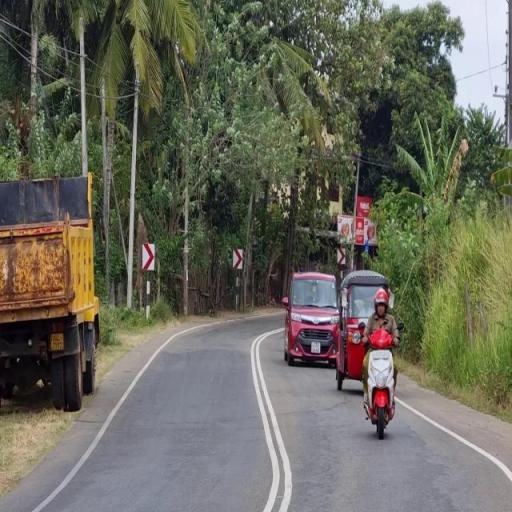double_white_line: (248, 326, 290, 512), (0, 13, 35, 64)
